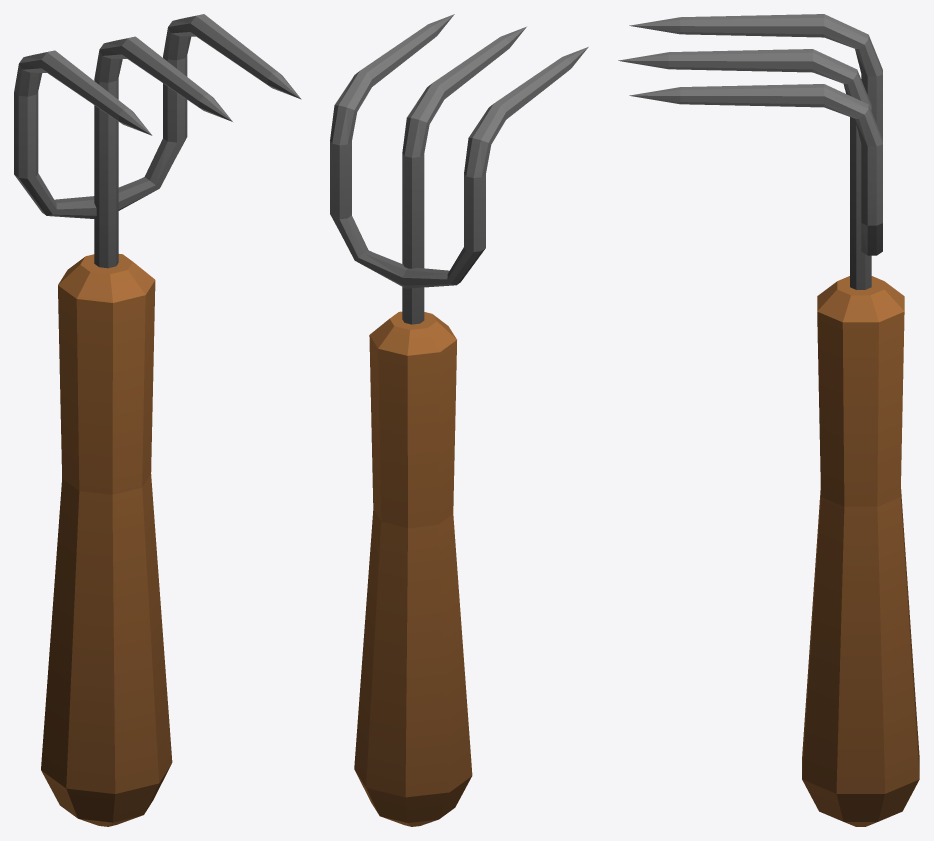
The model's file is Tool_Hand_Cultivator_01.obj.
3 renders of one model, left to right at view 1: azimuth 30°, elevation 25°; view 2: azimuth 150°, elevation 25°; view 3: azimuth 270°, elevation 25°, orthographic. The views are drawn at different scales.
Visible parts, largest first — view 1: Tool_Hand_Cultivator_01; view 2: Tool_Hand_Cultivator_01; view 3: Tool_Hand_Cultivator_01.
Boxes of the visible parts, x1,y1,x2,y2 form: Tool_Hand_Cultivator_01: (14,14,301,826); Tool_Hand_Cultivator_01: (330,14,588,826); Tool_Hand_Cultivator_01: (618,14,919,826).
Bounding box in the file's own units: 0.0661 × 0.2958 × 0.1051.
Materials: 1 (1 with a texture image).
